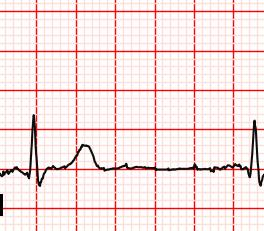LVH: (53, 143, 110, 172)
